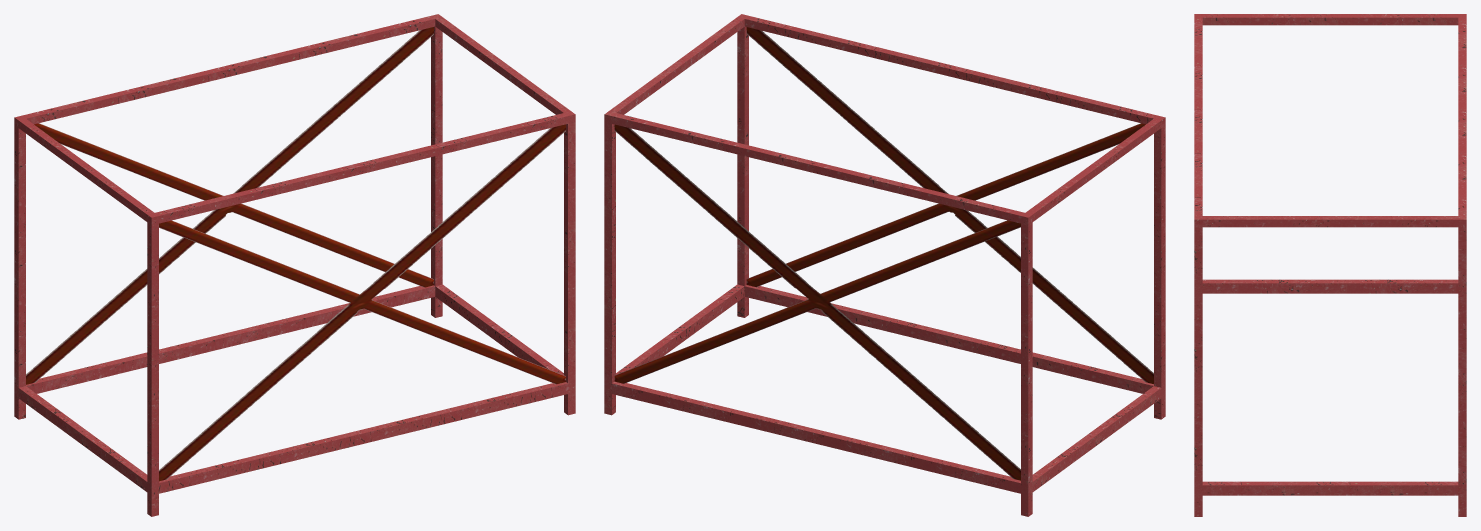
The model's file is Scaffolding.FBX.
3 views of the same model, side by side, from view 1: azimuth 30°, elevation 25°; view 2: azimuth 150°, elevation 25°; view 3: azimuth 270°, elevation 25° (orthographic).
Bounding box in the file's own units: 2.77 × 1.86 × 1.55.
